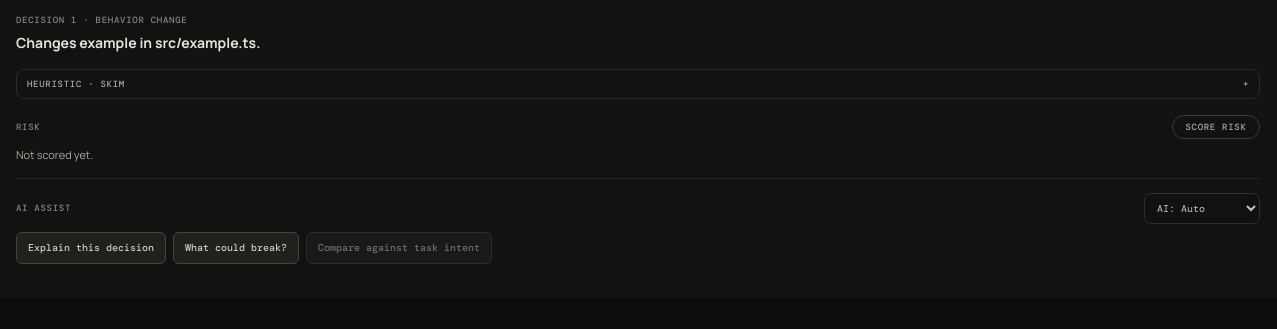
Test: diff review decision detail › shows the model answer after an on-demand assist action succeeds
What coordinates should you click on to do the following:
click the button "Explain this decision"
I would click on:
 (91, 248)
Its box is [16,232,166,264].
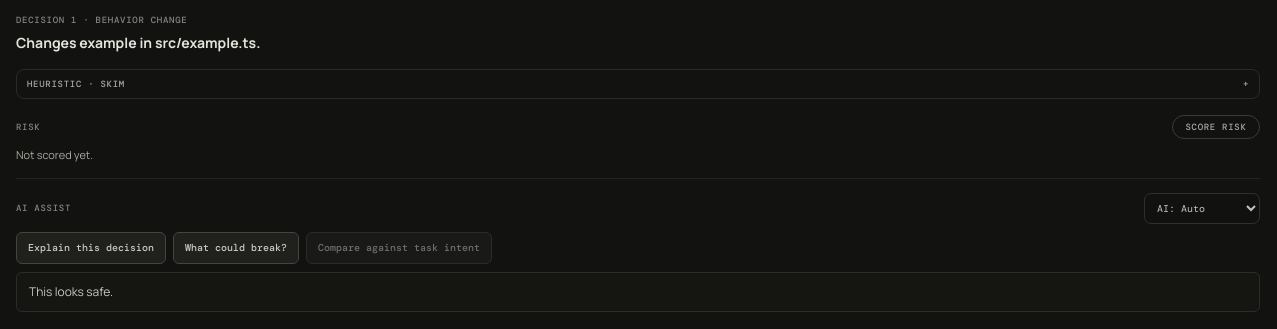
Expected: the text "This looks safe." is shown, [16,272,1260,312]
